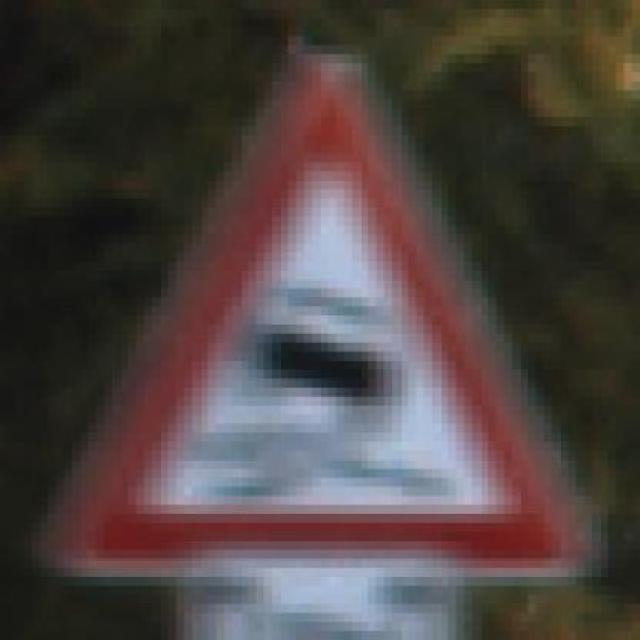Slippery Road Ahead: (32, 18, 616, 604)
